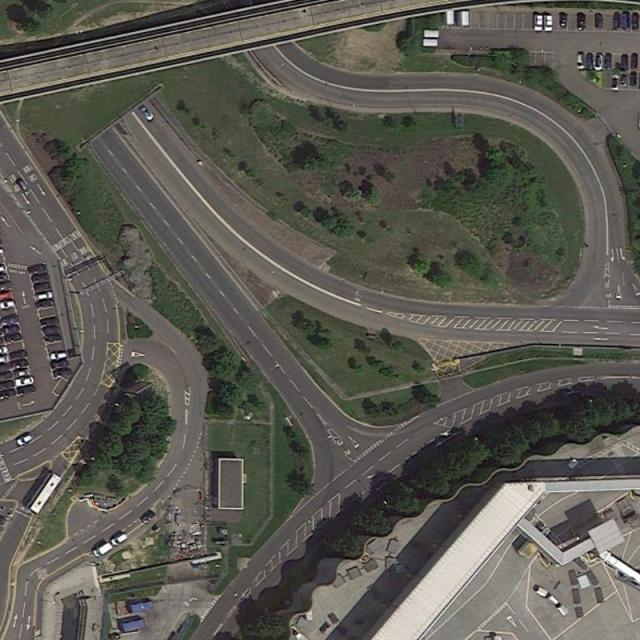vehicle: (91, 541, 115, 558), (14, 176, 32, 197), (110, 530, 130, 547), (15, 432, 35, 448), (14, 374, 38, 387), (140, 105, 157, 122), (16, 384, 38, 397), (8, 347, 28, 361), (34, 298, 56, 310), (140, 510, 157, 525), (38, 316, 61, 327), (6, 331, 24, 345), (34, 290, 55, 302), (41, 325, 63, 336), (26, 264, 50, 274), (32, 280, 53, 291), (52, 367, 73, 378), (14, 368, 34, 379), (30, 273, 50, 284), (10, 358, 31, 368), (2, 314, 19, 326), (1, 386, 17, 398), (45, 334, 64, 344), (51, 360, 70, 370), (544, 14, 553, 34), (49, 351, 69, 360), (533, 13, 542, 31), (621, 12, 629, 32), (594, 54, 603, 71), (576, 53, 585, 70), (577, 13, 585, 32), (630, 52, 638, 70), (4, 325, 22, 333), (611, 74, 619, 91), (559, 11, 567, 28), (1, 301, 16, 310), (612, 12, 619, 31), (1, 370, 13, 381), (1, 379, 14, 389), (1, 281, 14, 291), (603, 54, 611, 70), (594, 14, 602, 30), (631, 13, 638, 31), (1, 290, 15, 299), (586, 52, 593, 69), (620, 73, 628, 87), (621, 53, 627, 70), (1, 362, 12, 371), (1, 354, 10, 364), (630, 72, 636, 86), (1, 272, 10, 281), (1, 346, 10, 355), (1, 265, 9, 273), (1, 336, 7, 346), (1, 328, 5, 338), (638, 74, 640, 89), (1, 249, 5, 256), (1, 238, 3, 244), (1, 319, 2, 328)
